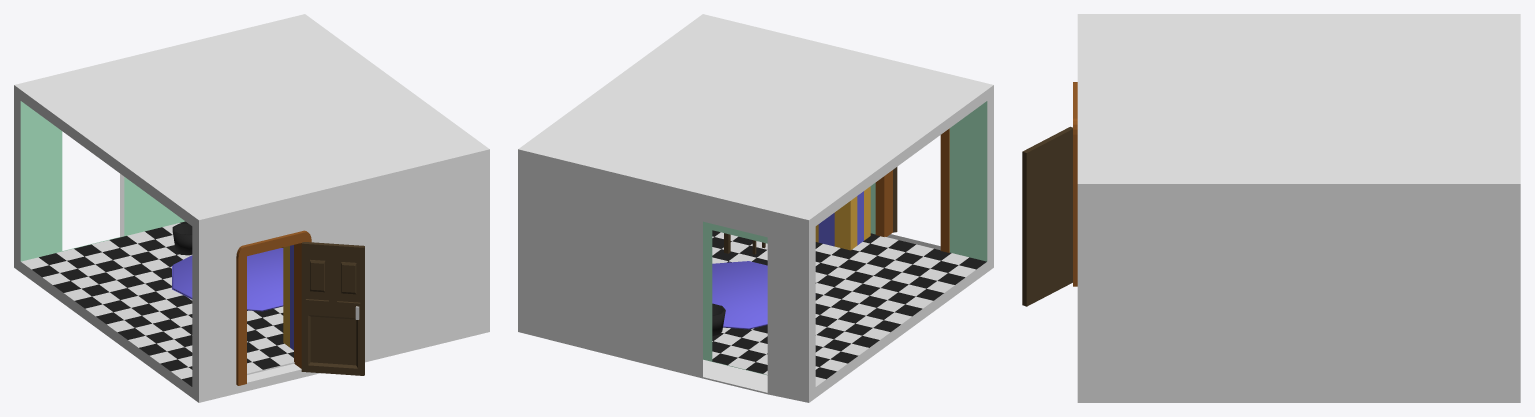
The model's file is Комната5.fbx.
3 views of the same model, side by side, from view 1: azimuth 30°, elevation 25°; view 2: azimuth 150°, elevation 25°; view 3: azimuth 270°, elevation 25° (orthographic). The views are drawn at different scales.
Parts seen in each view (by area): view 1: Cube.441; view 2: Cube.441; view 3: Cube.441.
Boxes of the visible parts, box(x1,y1,x2,y2) form: Cube.441: box(14, 14, 489, 402); Cube.441: box(518, 14, 993, 402); Cube.441: box(1022, 14, 1520, 402).
Size of the model in its own units: 792 by 479 by 980.
